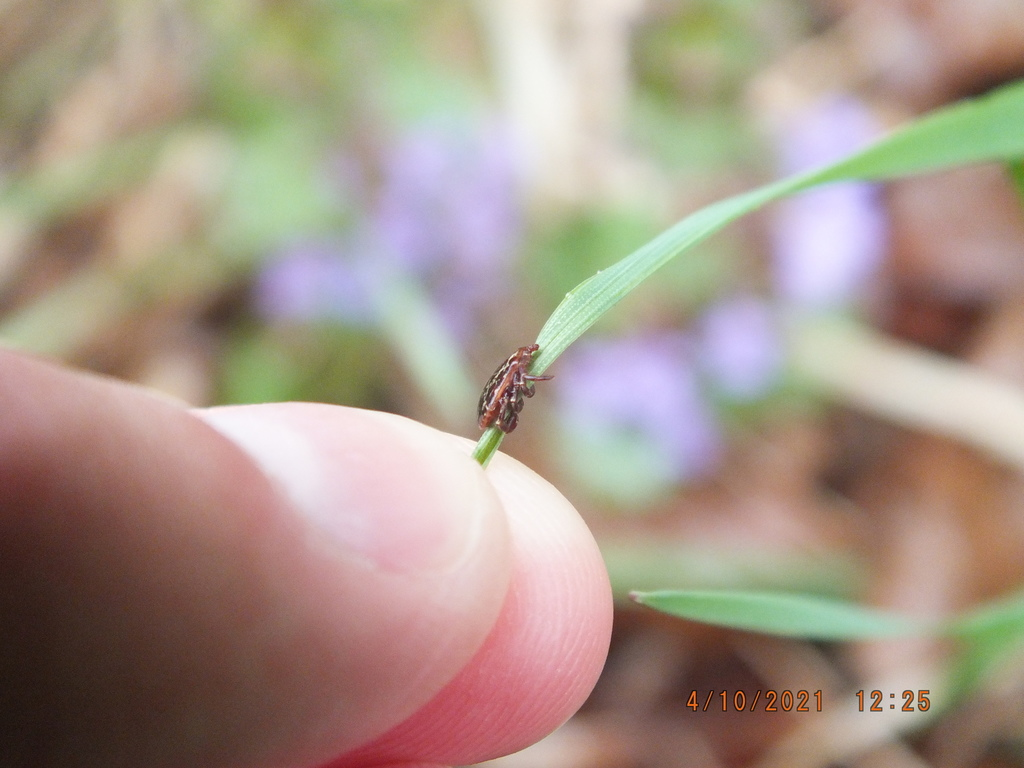garrapata: (470, 327, 555, 454)
